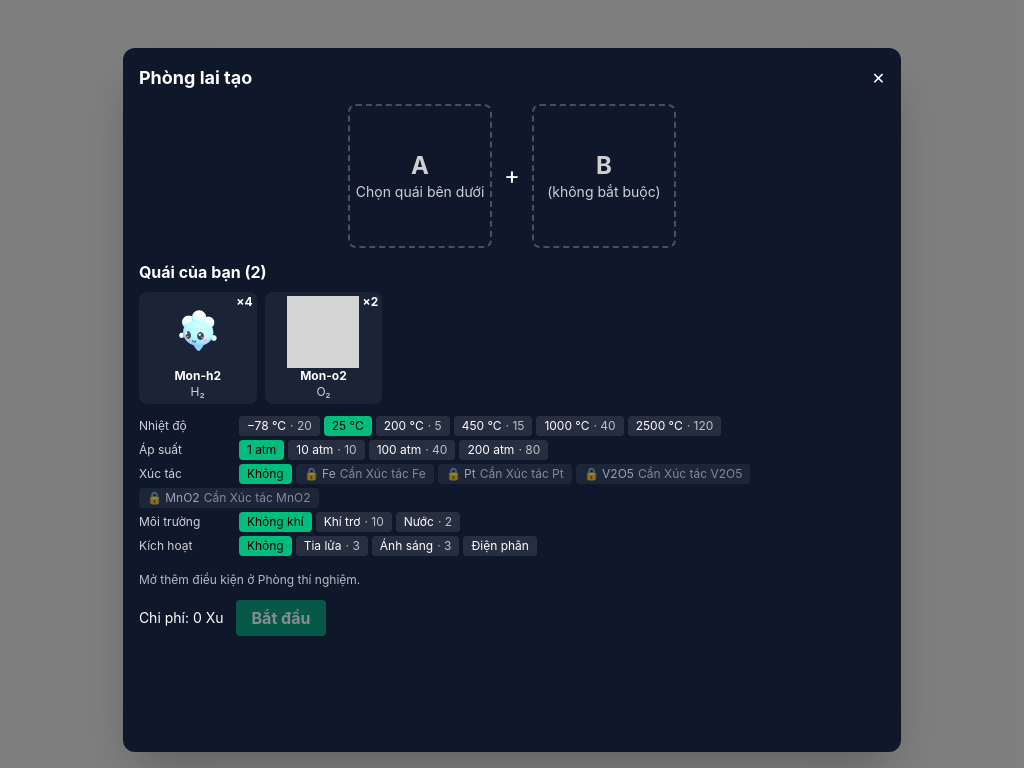
Test: Bắt đầu is disabled with "Thiếu 3 Xu" when coins = 40 and fee = 43
Click the button "×4 Mon-h2 H₂".
click(198, 348)  # box [139,292,257,404]
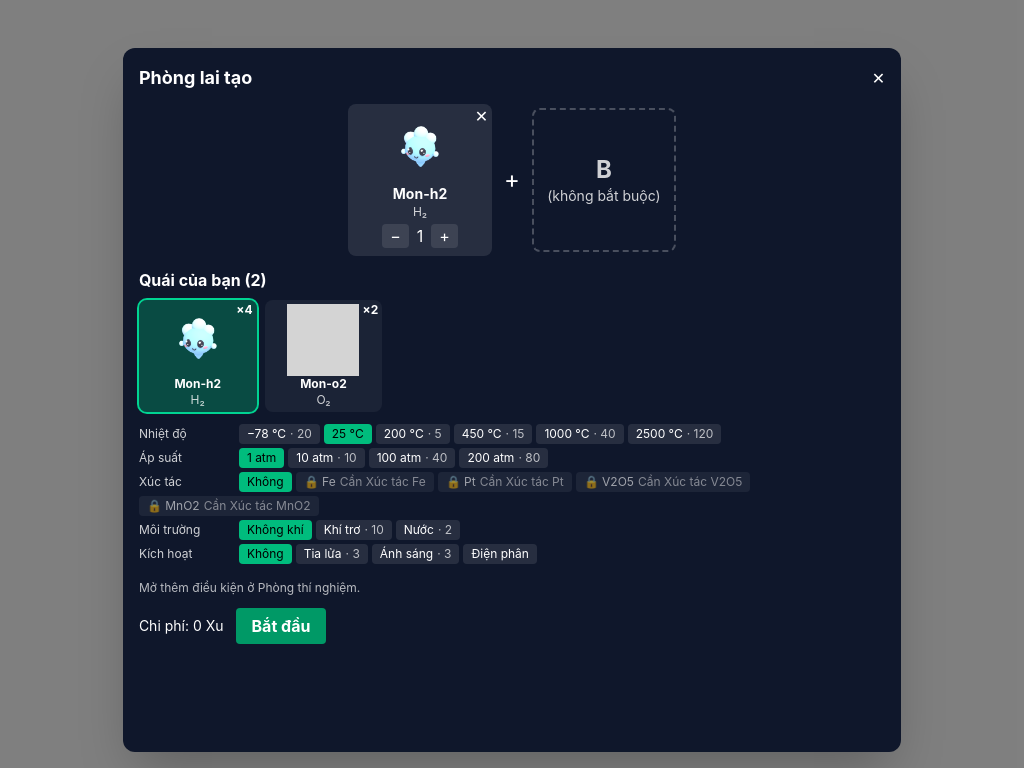
Click the button "1000 °C· 40".
click(580, 434)  # box [536,424,624,444]
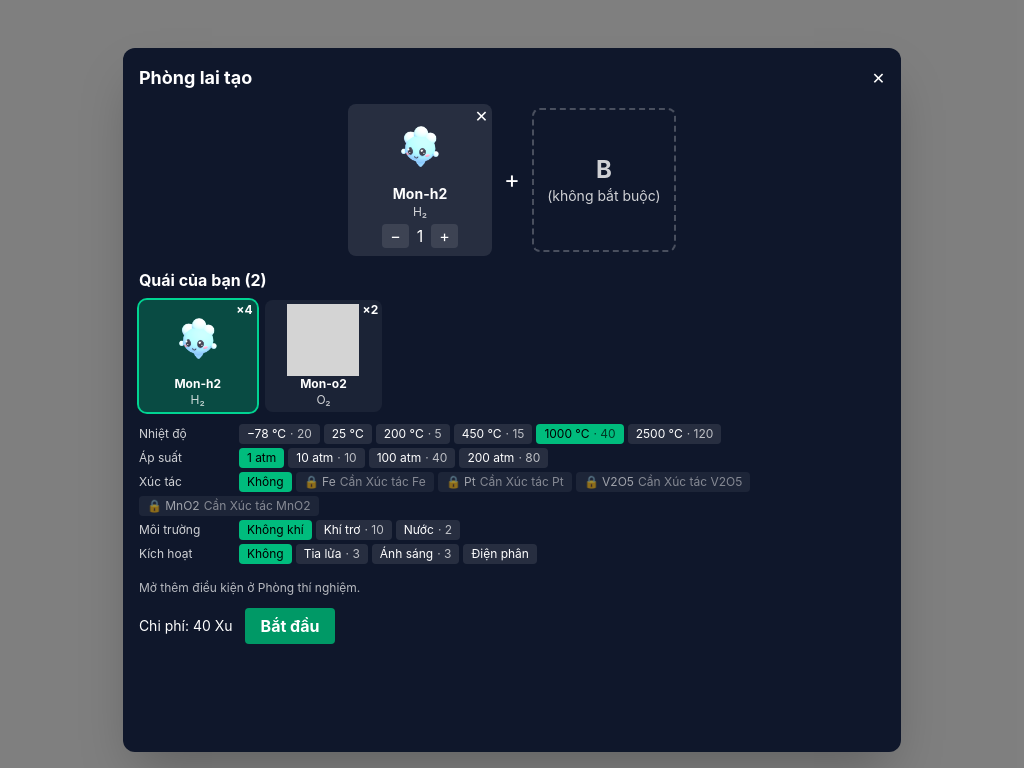
Check: the button "Bắt đầu" is enabled, box [245,608,336,644]
Click the button "Tia lửa· 3".
click(332, 554)  # box [296,544,368,564]
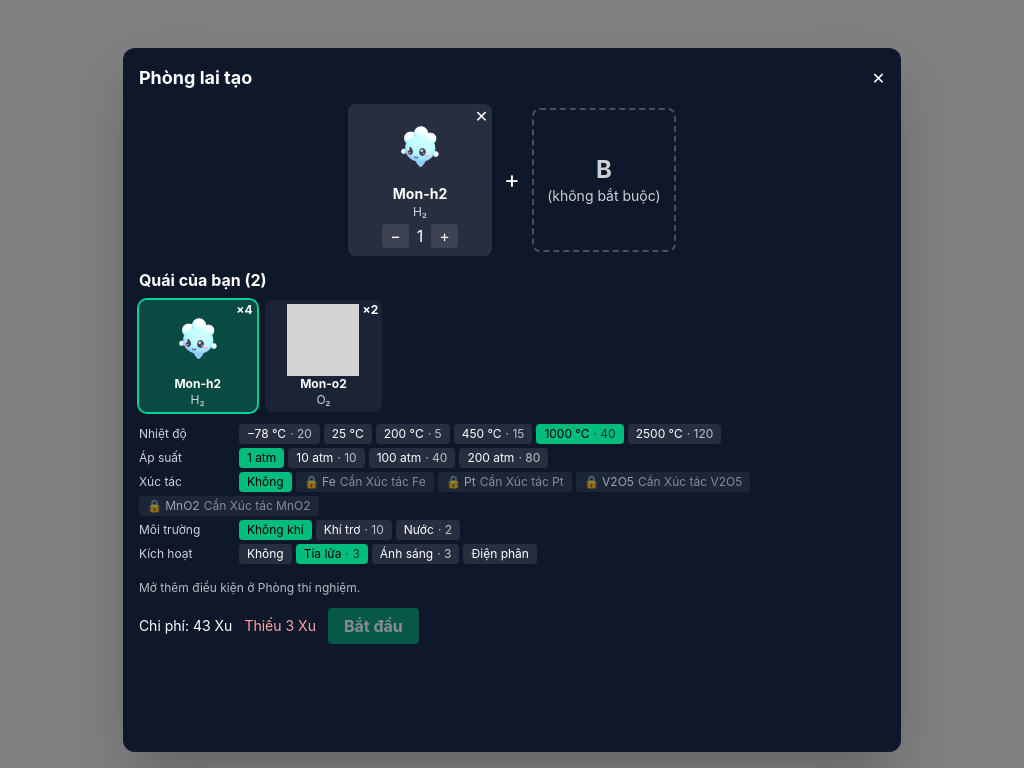
Check: the button "Bắt đầu" is disabled, box [328,608,419,644]
Check: the text "Thiếu 3 Xu" is shown, box [244,616,316,636]
